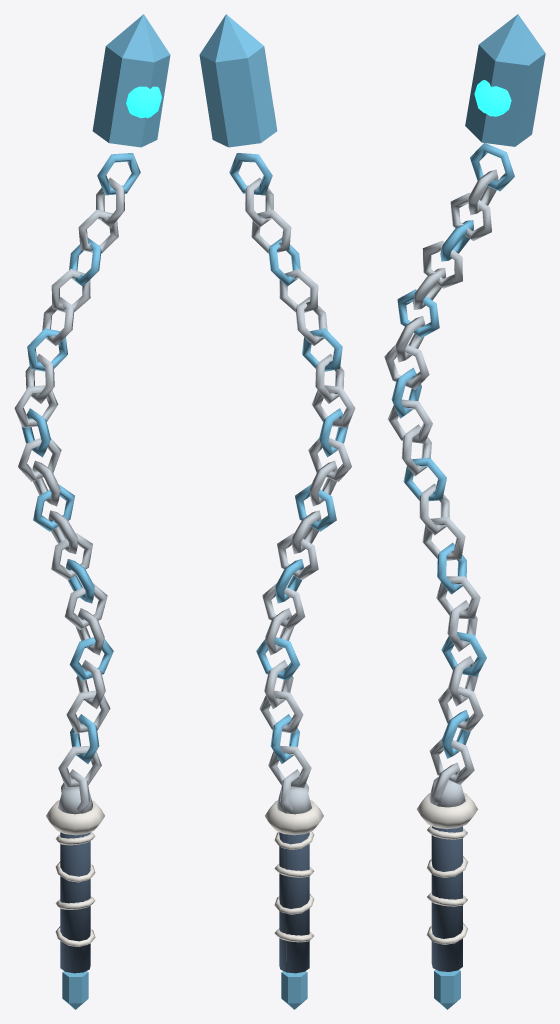
File: 04_tundra_whip.fbx
The picture shows the model from 3 angles, left to right: view 1: azimuth 30°, elevation 25°; view 2: azimuth 150°, elevation 25°; view 3: azimuth 330°, elevation 25°; orthographic projection. The views are drawn at different scales.
Parts seen in each view (by area): view 1: Weapon; view 2: Weapon; view 3: Weapon.
Part boxes in pixels (x1=…): Weapon: x1=14, y1=14, x2=170, y2=1009; Weapon: x1=199, y1=14, x2=355, y2=1009; Weapon: x1=384, y1=14, x2=545, y2=1009.
Bounding box in the file's own units: 26.55 × 168 × 11.47.
Materials: 2 (1 with a texture image).
